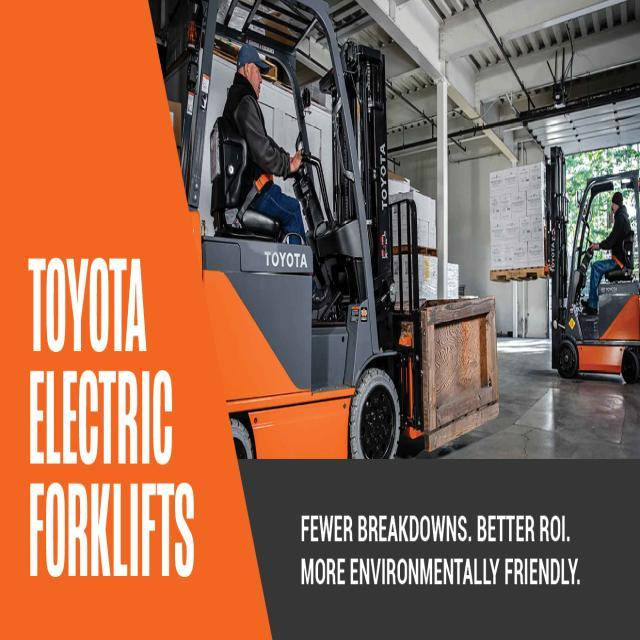driver: (221, 40, 305, 242), (588, 191, 632, 296)
forklift: (213, 27, 433, 452), (522, 143, 640, 395)
